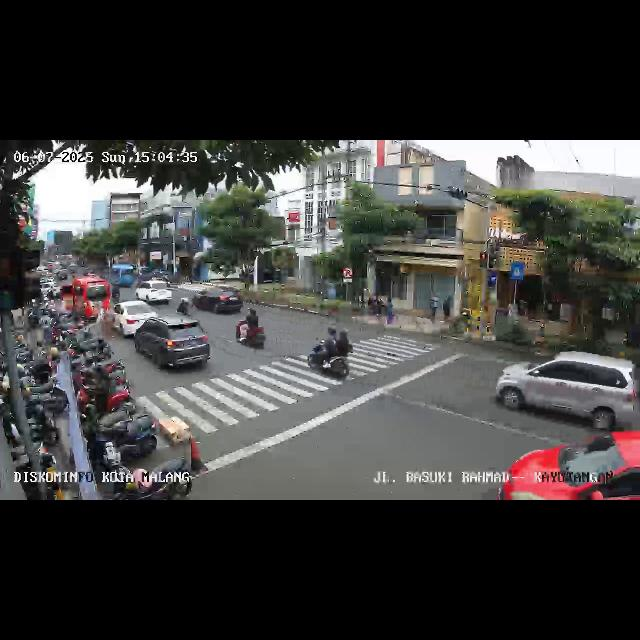car: (495, 350, 639, 436), (497, 437, 639, 499), (134, 318, 212, 374), (58, 278, 109, 322), (180, 284, 243, 318), (108, 299, 160, 339), (135, 280, 173, 306), (110, 264, 136, 286)
motorcycle: (309, 327, 355, 388), (235, 310, 267, 352)
